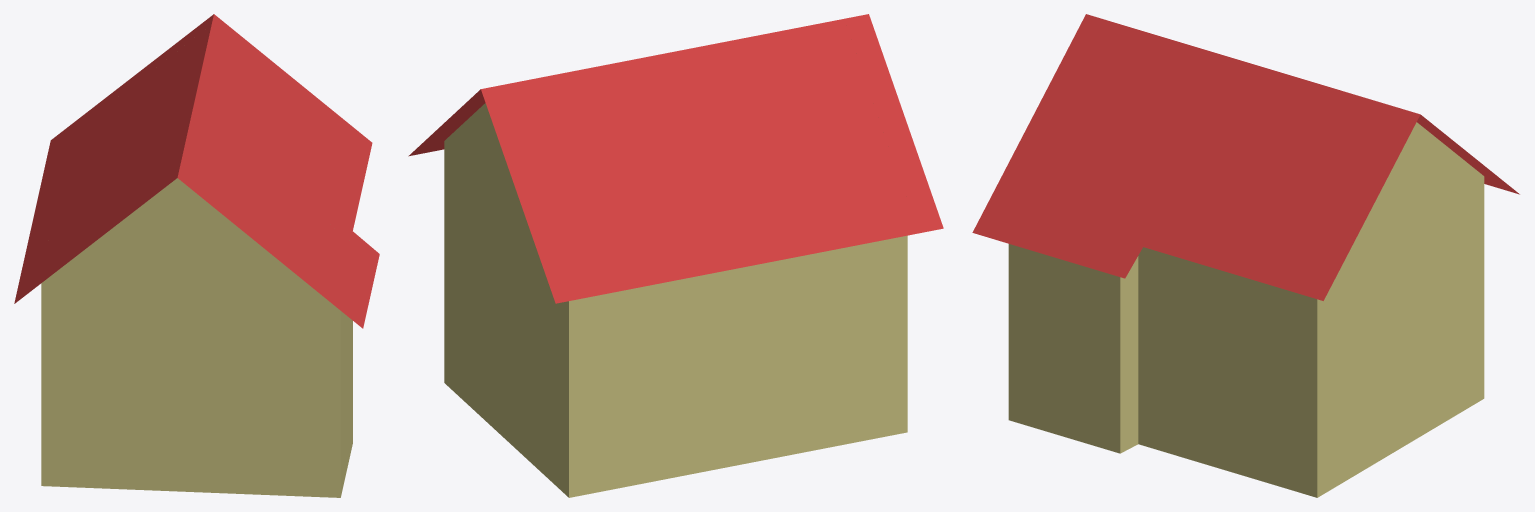
3 renders of one model, left to right at view 1: azimuth 30°, elevation 25°; view 2: azimuth 150°, elevation 25°; view 3: azimuth 270°, elevation 25°, orthographic. The views are drawn at different scales.
Visible parts, largest first — view 1: group_5, group_3, group_4; view 2: group_5, group_3, group_4; view 3: group_5, group_3, group_4.
Boxes of the visible parts, x1,y1,x2,y2 form: group_5: (41,178,352,497); group_3: (14,14,379,328); group_4: (14,14,379,303); group_5: (444,103,907,497); group_3: (408,19,942,303); group_4: (457,14,943,273); group_5: (1008,122,1484,497); group_3: (972,14,1459,300); group_4: (1073,115,1519,300).
Size of the model in its own units: 14.81 by 15.76 by 10.82.
